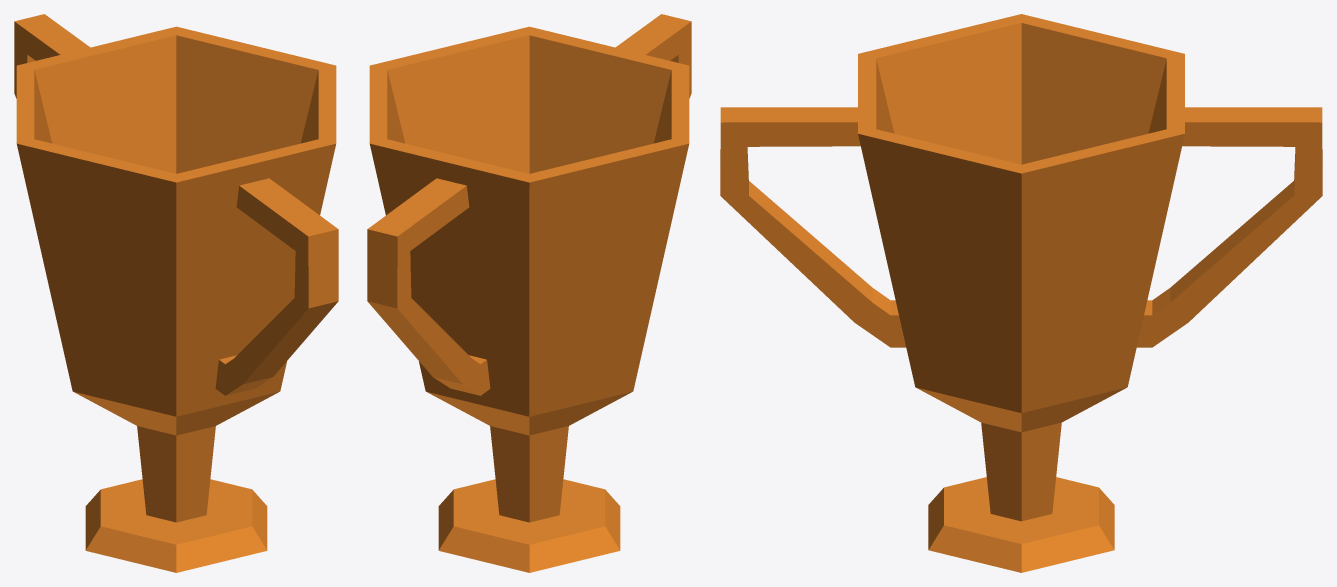
The model's file is Prize_1.fbx.
3 views of the same model, side by side, from view 1: azimuth 30°, elevation 25°; view 2: azimuth 150°, elevation 25°; view 3: azimuth 270°, elevation 25° (orthographic). The views are drawn at different scales.
Parts seen in each view (by area): view 1: prize; view 2: prize; view 3: prize.
Boxes of the visible parts, x1=… form: prize: x1=14, y1=14, x2=338, y2=572; prize: x1=367, y1=14, x2=691, y2=572; prize: x1=720, y1=14, x2=1322, y2=572.
Size of the model in its own units: 31.96 by 40.5 by 50.96.
